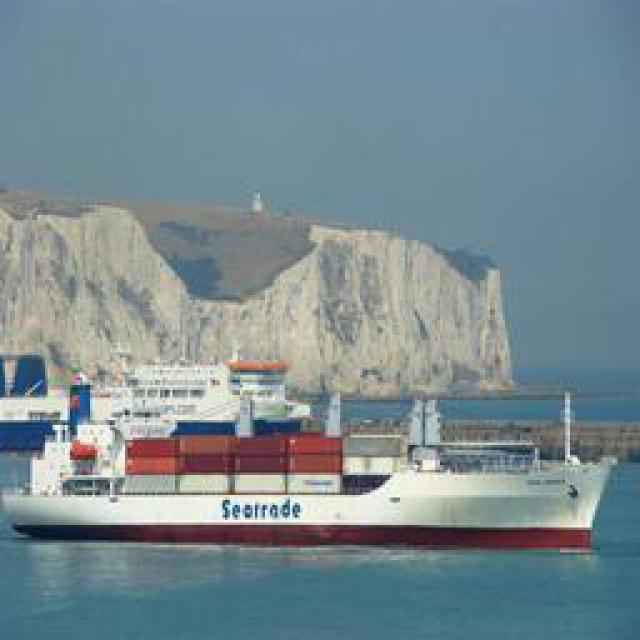Ship: (6, 378, 631, 546)
